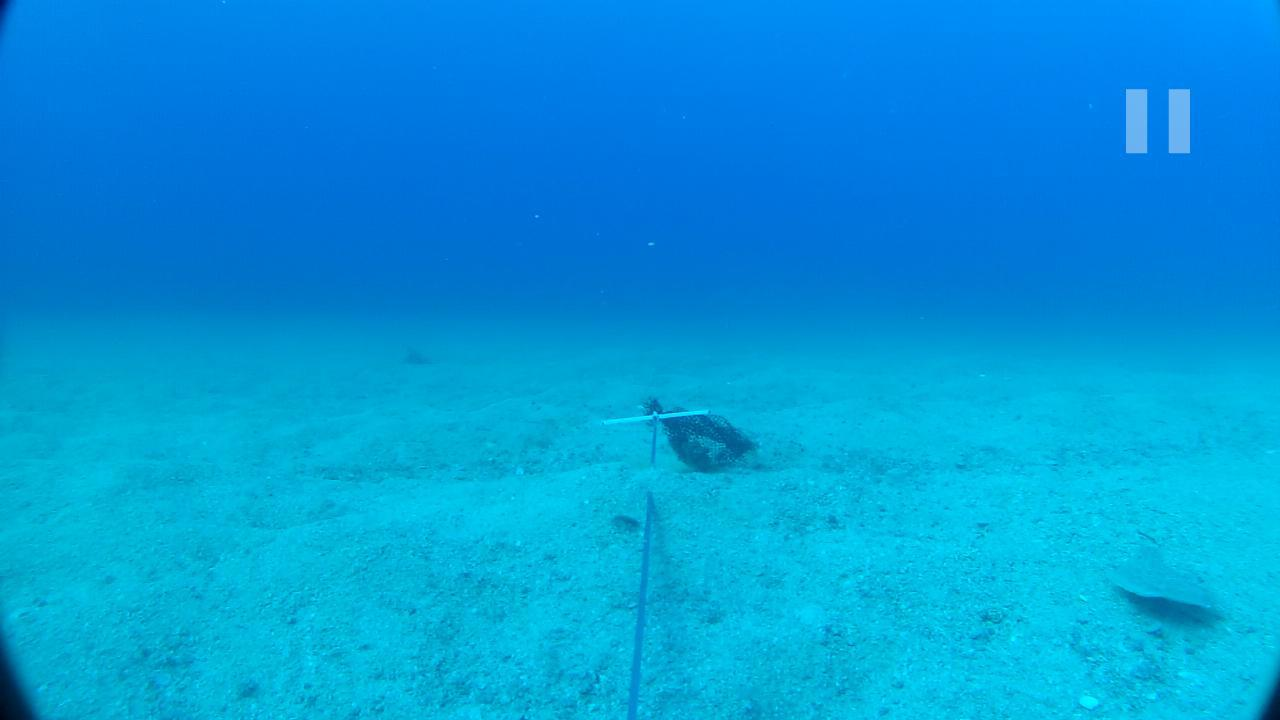bothus: (1104, 539, 1222, 624)
